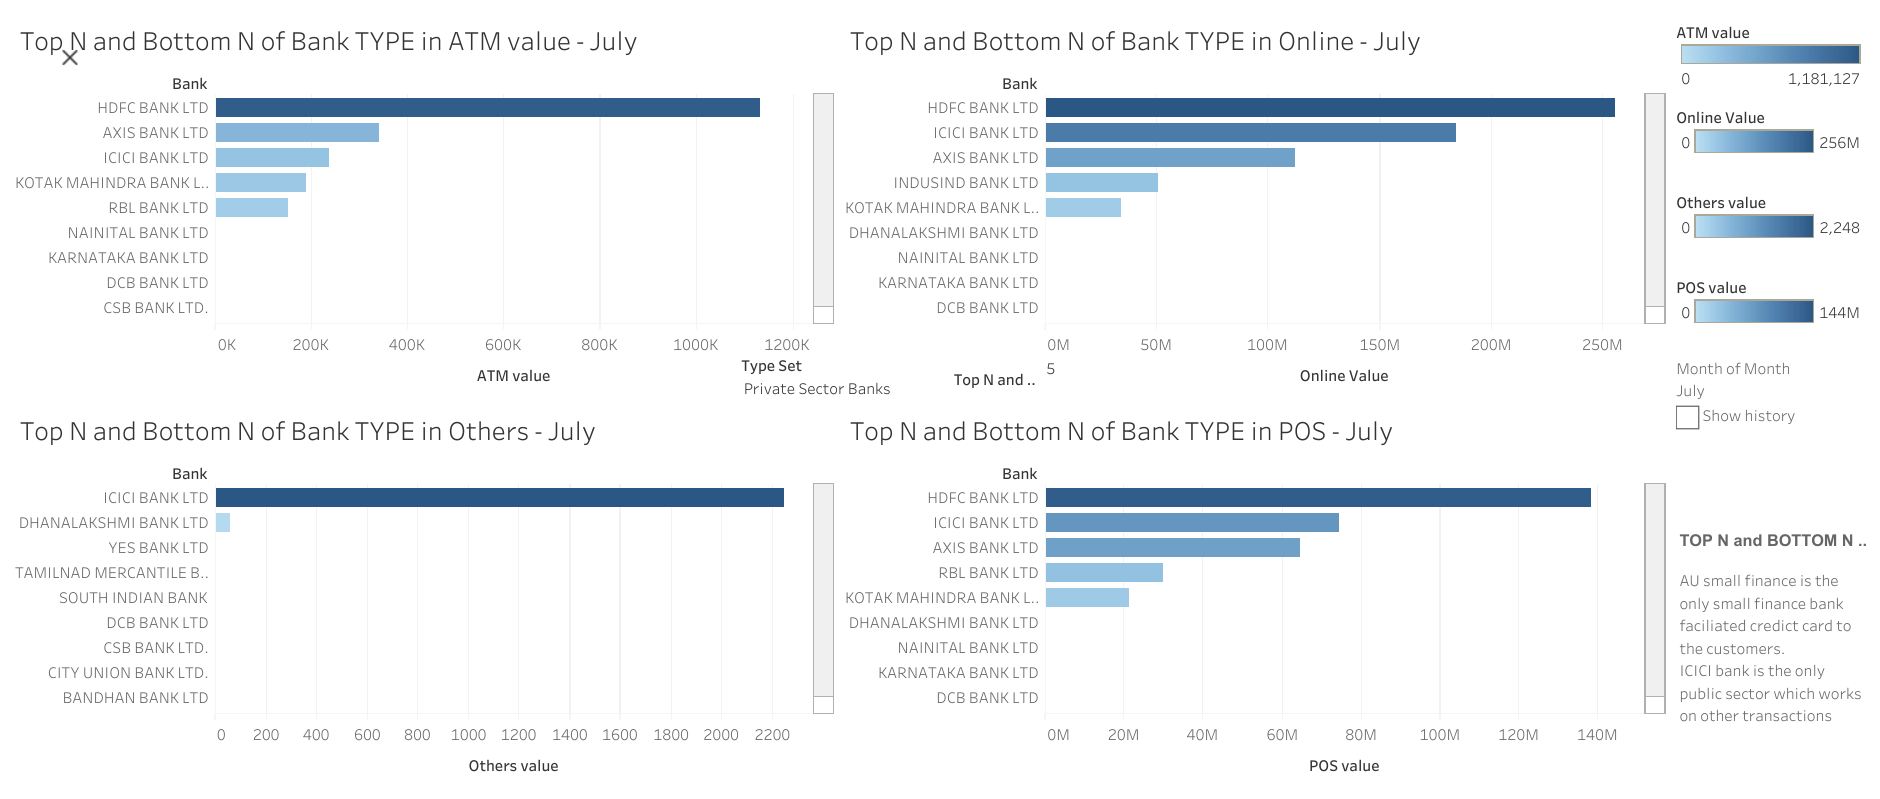

This screenshot's page, from the dashboard's own definition file:
{"tool":"tableau","page":{"name":"Top N and Bottom N analysis","canvas":[1000,1000],"units":"permille","ordinal":2},"visuals":[{"type":"worksheet","title":"Top N and Bottom N of Bank TYPE in ATM value","mark":"Automatic","rows":["Bank"],"cols":["ATM value"],"box":[4.8,9.3,446.9,490.7]},{"type":"worksheet","title":"Top N and Bottom N of Bank TYPE in Online","mark":"Automatic","rows":["Bank"],"cols":["Online Value"],"box":[451.7,9.3,446.9,490.7]},{"type":"legend","title":"Top N and Bottom N of Bank TYPE in ATM value","param":"[federated.0lruhsi1caeera1e4bwsl1k7g455].[sum:ATM value:qk]","box":[898.6,9.3,96.6,84.8]},{"type":"dashboard-object","box":[30.2,58.1,14.5,27.9]},{"type":"legend","title":"Top N and Bottom N of Bank TYPE in Online","param":"[federated.0lruhsi1caeera1e4bwsl1k7g455].[sum:Online Value:qk]","box":[898.6,94.1,96.6,84.8]},{"type":"legend","title":"Top N and Bottom N of Bank TYPE in Others","param":"[federated.0lruhsi1caeera1e4bwsl1k7g455].[sum:Others value:qk]","box":[898.6,178.8,96.6,84.8]},{"type":"legend","title":"Top N and Bottom N of Bank TYPE in POS","param":"[federated.0lruhsi1caeera1e4bwsl1k7g455].[sum:POS value:qk]","box":[898.6,263.6,96.6,84.8]},{"type":"currpage","title":"Top N and Bottom N of Bank TYPE in ATM value","box":[898.6,348.4,96.6,138.2]},{"type":"blank","box":[394.1,440.2,101.4,70.9]},{"type":"setMembership","title":"Top N and Bottom N of Bank TYPE in ATM value","param":"[federated.0lruhsi1caeera1e4bwsl1k7g455].[Type Set]","box":[394.1,440.2,101.4,70.9]},{"type":"parameter","param":"[Parameters].[Parameter 1]","box":[506.9,446,96.6,55.8]},{"type":"text","box":[898.6,486.6,96.6,77.8]},{"type":"worksheet","title":"Top N and Bottom N of Bank TYPE in Others","mark":"Automatic","rows":["Bank"],"cols":["Others value"],"box":[4.8,500,446.9,490.7]},{"type":"worksheet","title":"Top N and Bottom N of Bank TYPE in POS","mark":"Automatic","rows":["Bank"],"cols":["POS value"],"box":[451.7,500,446.9,490.7]},{"type":"text","box":[898.6,564.4,96.6,253.2]}]}

Visuals, with their boxes on the dashboard's canvas, which has no fixed pixel size, in thousandths of its width and height (x1, y1, x2, y2). These are canvas units, not pixel positions in the 1880x799 screenshot, which may show the page scaled, cropped or inside an application window:
"Top N and Bottom N of Bank TYPE in ATM value" worksheet: detection(5, 9, 452, 500)
"Top N and Bottom N of Bank TYPE in Online" worksheet: detection(452, 9, 899, 500)
"Top N and Bottom N of Bank TYPE in ATM value" legend: detection(899, 9, 995, 94)
dashboard-object: detection(30, 58, 45, 86)
"Top N and Bottom N of Bank TYPE in Online" legend: detection(899, 94, 995, 179)
"Top N and Bottom N of Bank TYPE in Others" legend: detection(899, 179, 995, 264)
"Top N and Bottom N of Bank TYPE in POS" legend: detection(899, 264, 995, 348)
"Top N and Bottom N of Bank TYPE in ATM value" currpage: detection(899, 348, 995, 487)
blank: detection(394, 440, 496, 511)
"Top N and Bottom N of Bank TYPE in ATM value" setMembership: detection(394, 440, 496, 511)
parameter: detection(507, 446, 604, 502)
text: detection(899, 487, 995, 564)
"Top N and Bottom N of Bank TYPE in Others" worksheet: detection(5, 500, 452, 991)
"Top N and Bottom N of Bank TYPE in POS" worksheet: detection(452, 500, 899, 991)
text: detection(899, 564, 995, 818)
